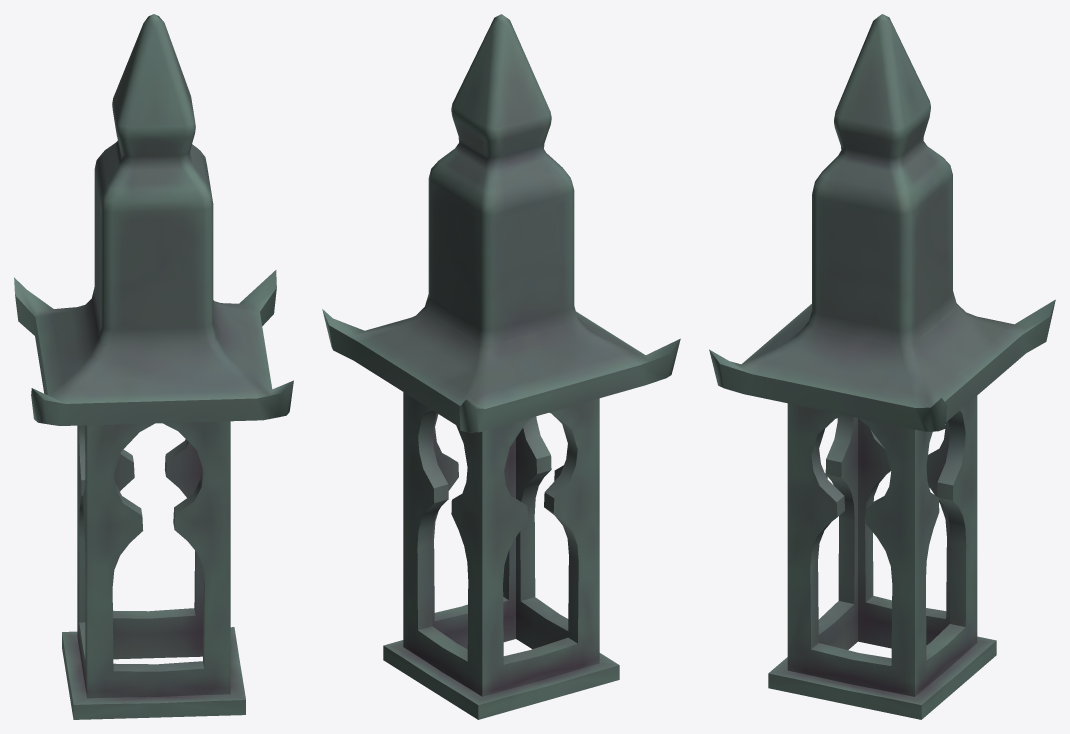
Rendered from Room_Lamp.fbx.
3 views of the same model, side by side, from view 1: azimuth 30°, elevation 25°; view 2: azimuth 150°, elevation 25°; view 3: azimuth 270°, elevation 25° (orthographic).
Parts seen in each view (by area): view 1: MeshBaker_mesh_mesh; view 2: MeshBaker_mesh_mesh; view 3: MeshBaker_mesh_mesh.
Part boxes in pixels (x1,y1,x2,y2): MeshBaker_mesh_mesh: [14, 14, 293, 719]; MeshBaker_mesh_mesh: [322, 14, 680, 719]; MeshBaker_mesh_mesh: [709, 14, 1055, 719].
Bounding box in the file's own units: 157 × 328 × 157.
Materials: 1 (1 with a texture image).
